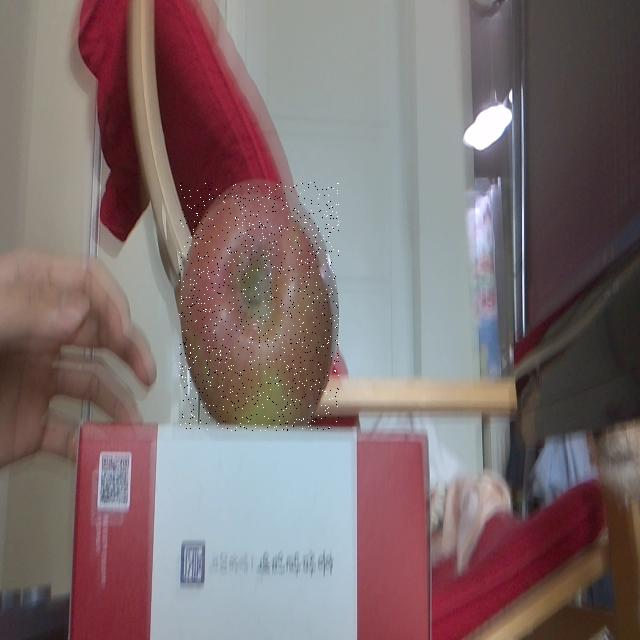apple: (179, 182, 339, 431)
